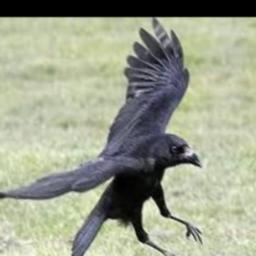Crow: (0, 17, 203, 256)
